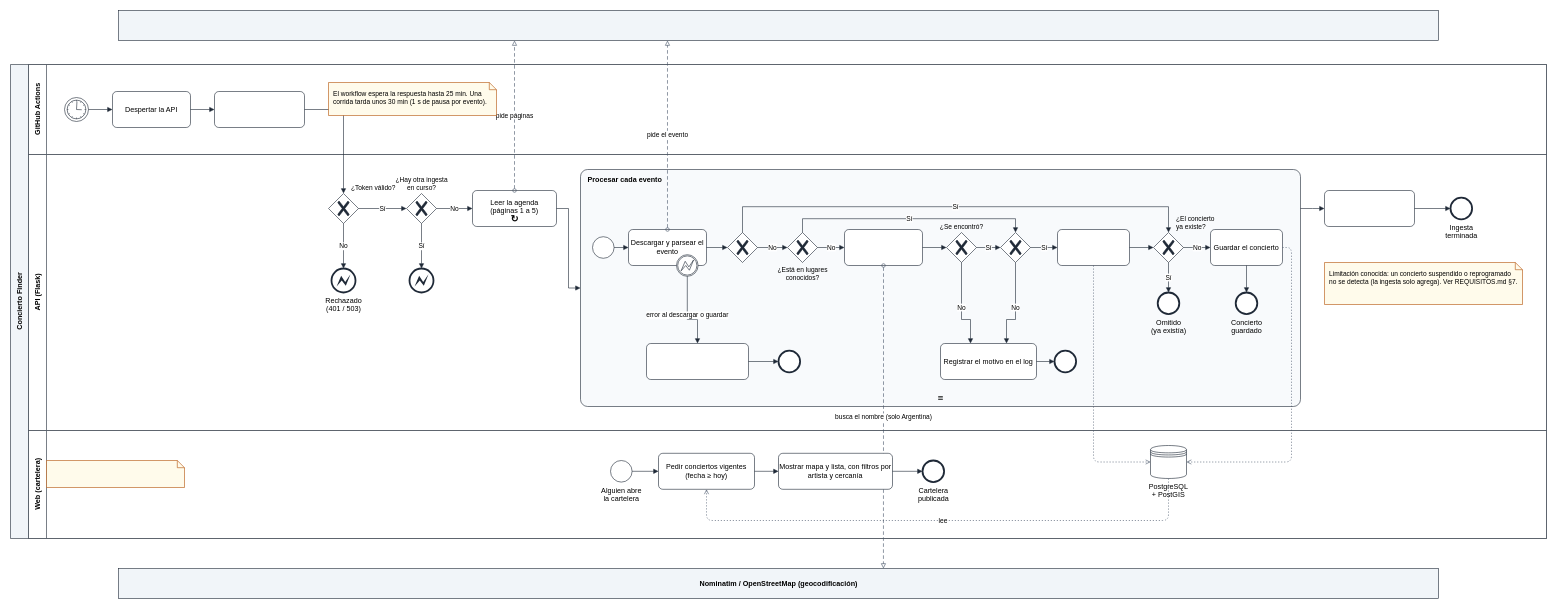
The diagram is 1557 pixels wide and 609 high, and some of its shapes have lost their labels. The centre of each missing label's shape, as x and y in pixels:
"agendade.com.ar (fuente de eventos)" belongs at point (778, 25).
"Cada 12 h (9:10 y 21:10)" belongs at point (76, 109).
"Concierto descartado" belongs at point (1065, 361).
"Geocodificar con Nominatim" belongs at point (883, 247).
"Guardar la ubicación" belongs at point (1093, 247).
"Limpieza diaria (cada 24 h): borra conciertos duplicados." belongs at point (115, 474).
"Pedir la ingesta con el token" belongs at point (259, 109).
"Rechazado (409)" belongs at point (421, 280).
"Registrar el error y deshacer (rollback)" belongs at point (697, 361).
"Registrar el resumen (leídos y nuevos)" belongs at point (1369, 208).
"Sigue con el siguiente evento" belongs at point (789, 361).
"¿Dentro de AMBA?" belongs at point (1015, 247).
"¿El lugar ya está registrado?" belongs at point (742, 247).
